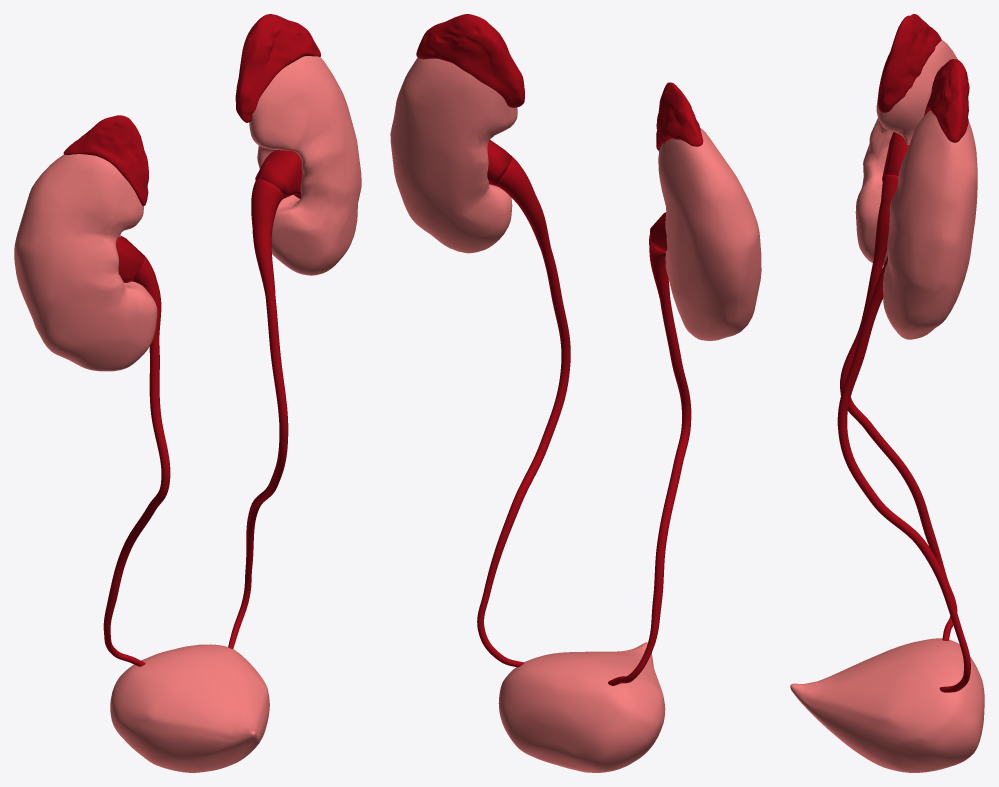
File: Kidney_New.glb
3 renders of one model, left to right at view 1: azimuth 30°, elevation 25°; view 2: azimuth 150°, elevation 25°; view 3: azimuth 270°, elevation 25°, orthographic. The views are drawn at different scales.
Parts seen in each view (by area): view 1: Kidney.r, Kidney.l, Urinary bladder, Ureter.l, Suprarenal gland.l, Ureter.r, Suprarenal gland.r, Renal pelvis.l, Renal pelvis.r; view 2: Kidney.l, Urinary bladder, Kidney.r, Ureter.l, Suprarenal gland.l, Ureter.r, Suprarenal gland.r, Renal pelvis.l; view 3: Urinary bladder, Kidney.l, Kidney.r, Ureter.l, Ureter.r, Suprarenal gland.r, Suprarenal gland.l, Renal pelvis.r.
Boxes of the visible parts, x1=… form: Kidney.r: x1=14, y1=154, x2=157, y2=371; Kidney.l: x1=249, y1=56, x2=361, y2=275; Urinary bladder: x1=110, y1=644, x2=269, y2=772; Ureter.l: x1=228, y1=179, x2=288, y2=648; Suprarenal gland.l: x1=235, y1=14, x2=320, y2=122; Ureter.r: x1=103, y1=256, x2=170, y2=666; Suprarenal gland.r: x1=63, y1=115, x2=148, y2=205; Renal pelvis.l: x1=255, y1=150, x2=302, y2=198; Renal pelvis.r: x1=116, y1=236, x2=144, y2=282; Kidney.l: x1=390, y1=58, x2=517, y2=253; Urinary bladder: x1=498, y1=642, x2=665, y2=772; Kidney.r: x1=658, y1=128, x2=761, y2=340; Ureter.l: x1=477, y1=156, x2=570, y2=667; Suprarenal gland.l: x1=416, y1=14, x2=524, y2=107; Ureter.r: x1=608, y1=234, x2=691, y2=685; Suprarenal gland.r: x1=656, y1=82, x2=703, y2=151; Renal pelvis.l: x1=487, y1=140, x2=512, y2=185; Urinary bladder: x1=790, y1=638, x2=984, y2=772; Kidney.l: x1=883, y1=110, x2=977, y2=339; Kidney.r: x1=855, y1=40, x2=957, y2=265; Ureter.l: x1=837, y1=256, x2=970, y2=692; Ureter.r: x1=840, y1=174, x2=957, y2=640; Suprarenal gland.r: x1=878, y1=14, x2=941, y2=112; Suprarenal gland.l: x1=924, y1=59, x2=969, y2=142; Renal pelvis.r: x1=882, y1=132, x2=909, y2=178.
Size of the model in its own units: 0.1938 by 0.3872 by 0.0907.
